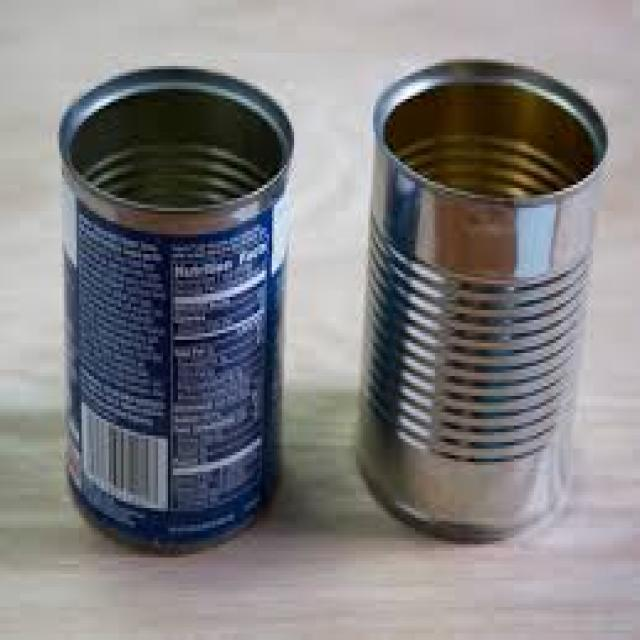metal-can: (364, 56, 611, 552), (57, 61, 295, 557)
